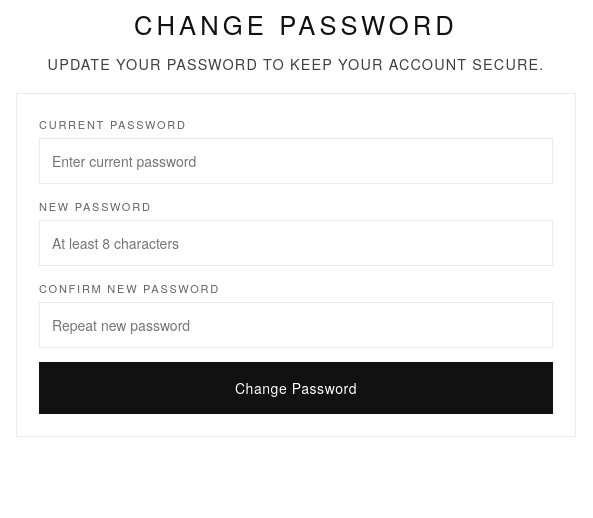
Test: PasswordChange - validation › shows a mismatch error when new and confirm passwords differ
This screenshot has width=593, height=518.
Step 1. Type "oldpass" into the password field labelled "Current Password" → (296, 161), box [39,138,553,184]
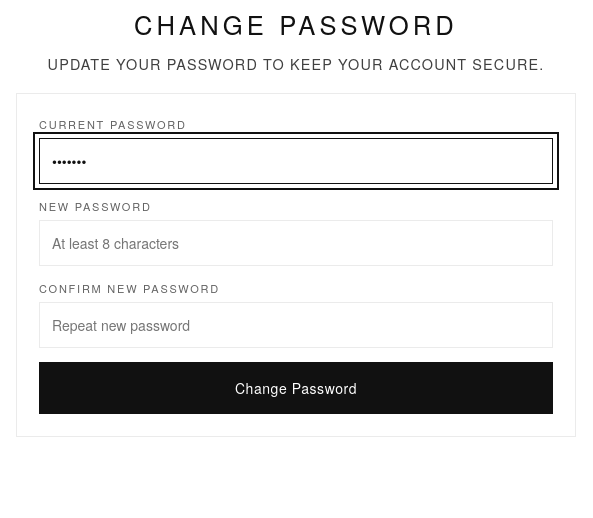
Step 2. Type "NewStrongPass123" into the password field labelled "New Password" → (296, 243), box [39,220,553,266]
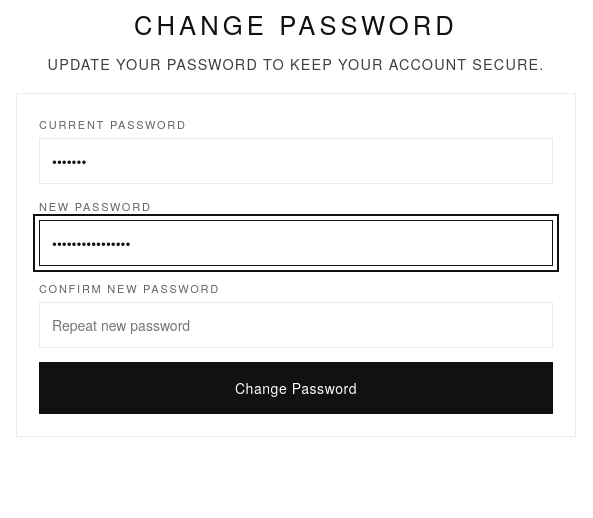
Step 3. Type "SomethingElse123" into the password field labelled "Confirm New Password" → (296, 325), box [39,302,553,348]
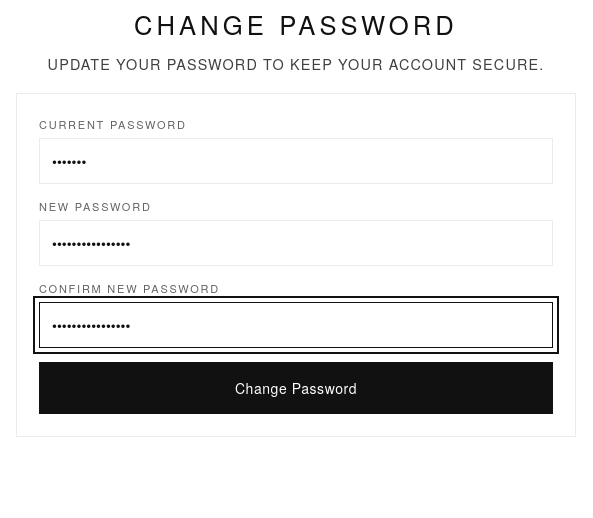
Step 4. Click the button "Change Password" → (296, 388), box [39,362,553,414]
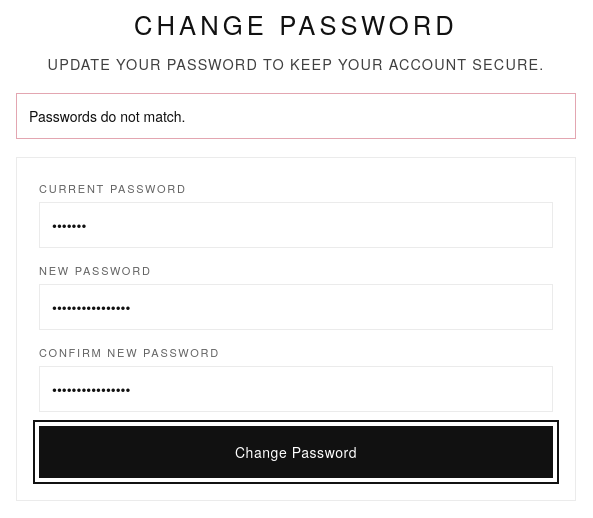
Check: the text "Passwords do not match." is shown, box [16,93,576,139]
